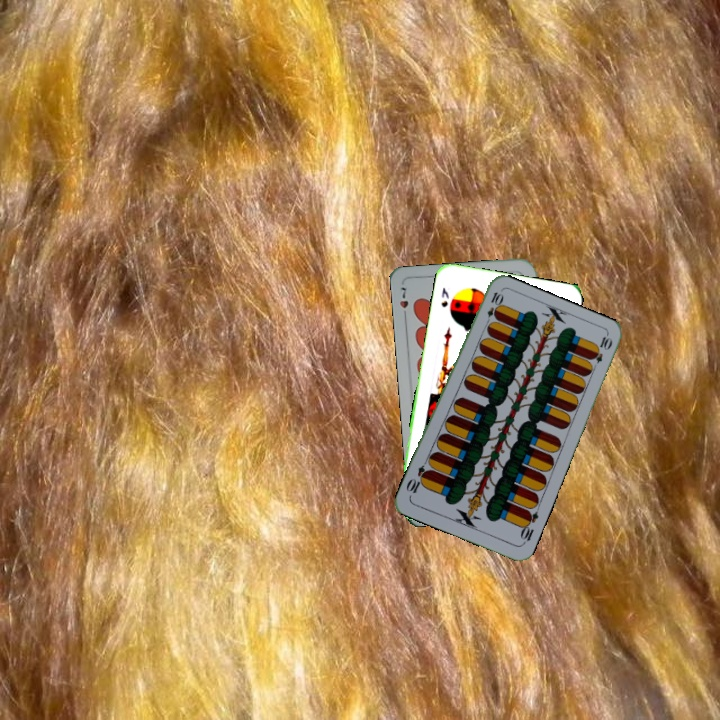E10: (516, 506, 541, 547), (482, 288, 504, 328)
H7: (395, 283, 411, 322)
SK: (437, 283, 451, 310)
